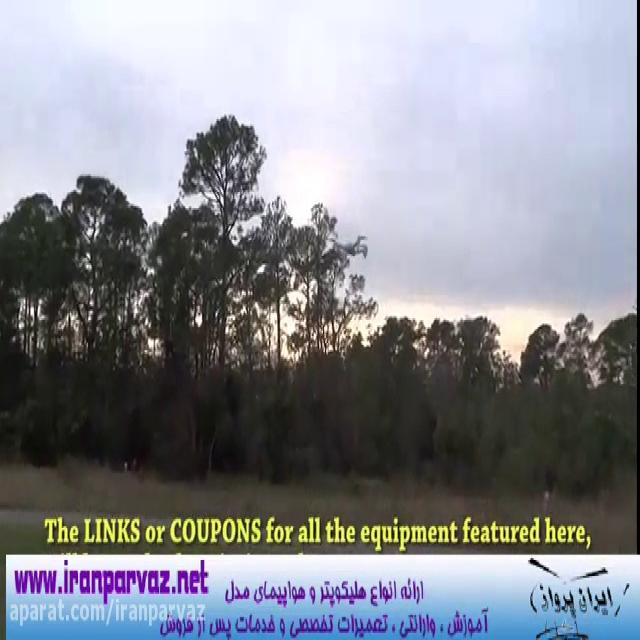drone: (332, 228, 370, 263)
